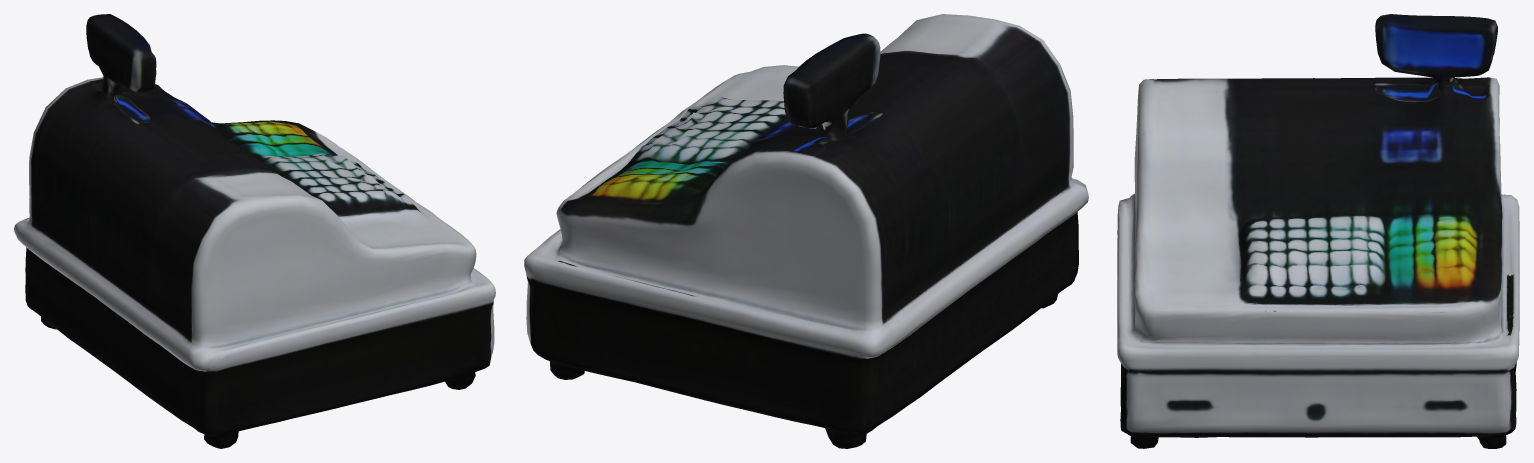
The model's file is 948a79519ba4_a_cash_register__3d.obj.
The picture shows the model from 3 angles, left to right: view 1: azimuth 30°, elevation 25°; view 2: azimuth 150°, elevation 25°; view 3: azimuth 270°, elevation 25°; orthographic projection. The views are drawn at different scales.
Visible parts, largest first — view 1: mesh; view 2: mesh; view 3: mesh.
Boxes of the visible parts, box(x1,y1,x2,y2) form: mesh: box(14, 14, 495, 448); mesh: box(524, 14, 1088, 448); mesh: box(1117, 14, 1519, 448).
Size of the model in its own units: 0.9293 by 0.8932 by 0.9996.
1 material, 1 textured.
